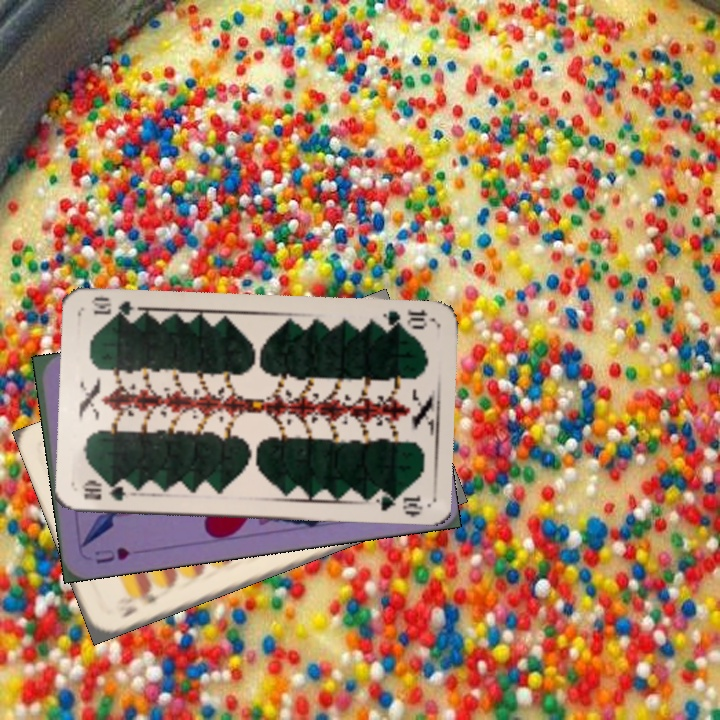E10: (118, 585, 162, 620)
G10: (379, 305, 434, 332), (78, 479, 129, 503)
HU: (90, 543, 133, 567)
